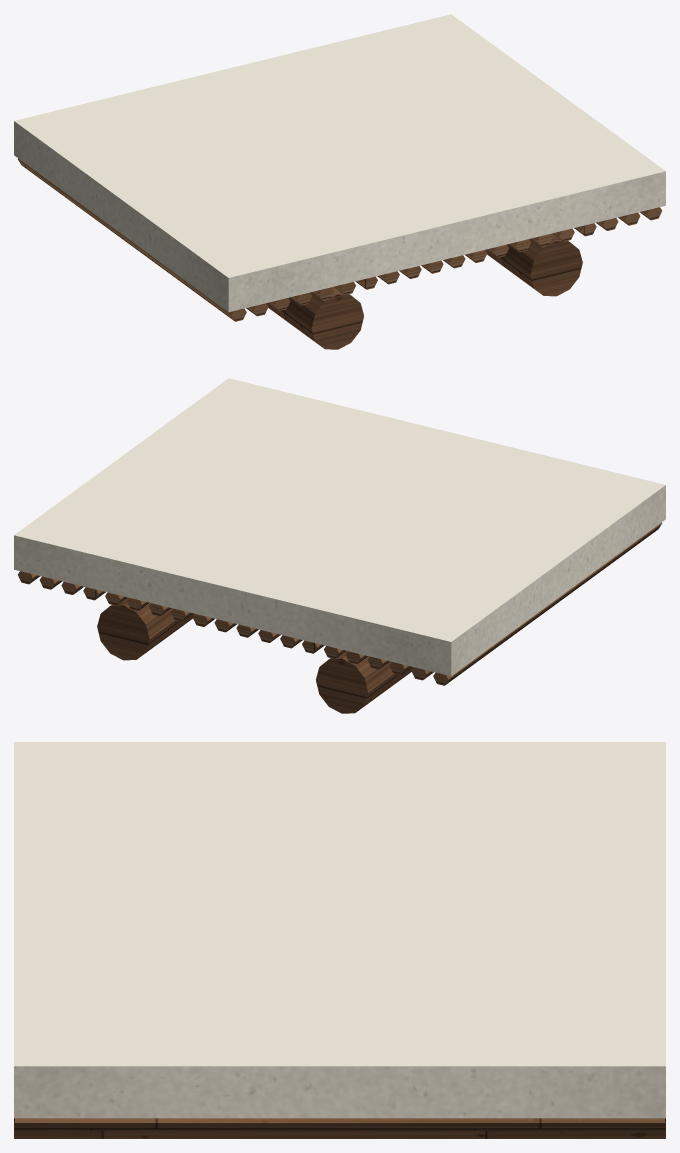
File: m_ceiling_e0010.glb
3 views of the same model, one above another, from view 1: azimuth 30°, elevation 25°; view 2: azimuth 150°, elevation 25°; view 3: azimuth 270°, elevation 25° (orthographic). The views are drawn at different scales.
Visible parts, largest first — view 1: m_ceiling_e0010_plaster, m_ceiling_e0010_wood, m_ceiling_e0010_planks; view 2: m_ceiling_e0010_plaster, m_ceiling_e0010_wood, m_ceiling_e0010_planks; view 3: m_ceiling_e0010_plaster, m_ceiling_e0010_planks, m_ceiling_e0010_wood.
Boxes of the visible parts, left/top/right/bottom form: m_ceiling_e0010_plaster: left=14, top=14, right=665, bottom=312; m_ceiling_e0010_wood: left=266, top=233, right=582, bottom=349; m_ceiling_e0010_planks: left=17, top=158, right=662, bottom=321; m_ceiling_e0010_plaster: left=14, top=378, right=665, bottom=676; m_ceiling_e0010_wood: left=97, top=597, right=413, bottom=713; m_ceiling_e0010_planks: left=17, top=522, right=662, bottom=685; m_ceiling_e0010_plaster: left=14, top=742, right=665, bottom=1118; m_ceiling_e0010_planks: left=15, top=1118, right=664, bottom=1130; m_ceiling_e0010_wood: left=14, top=1118, right=665, bottom=1138.
Size of the model in its own units: 2 by 0.43 by 1.7.
3 materials, 3 textured.
